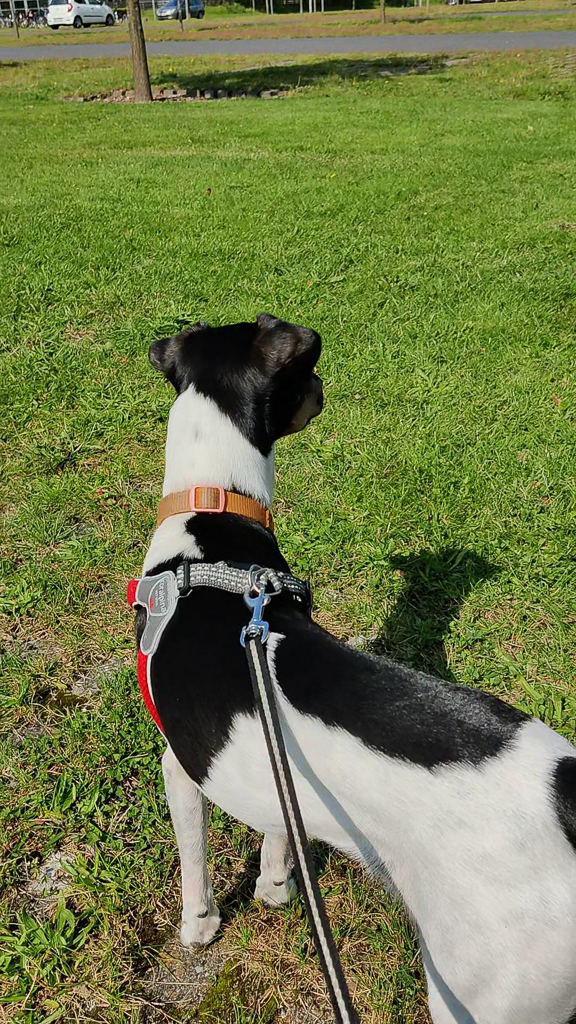Dog: (105, 300, 576, 1024)
